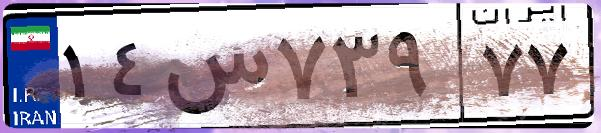1: (57, 26, 110, 100)
3: (330, 28, 385, 110)
4: (110, 28, 158, 98)
7: (270, 28, 330, 110), (475, 38, 525, 113), (525, 38, 570, 115)
9: (385, 28, 445, 110)
س: (158, 20, 270, 120)
